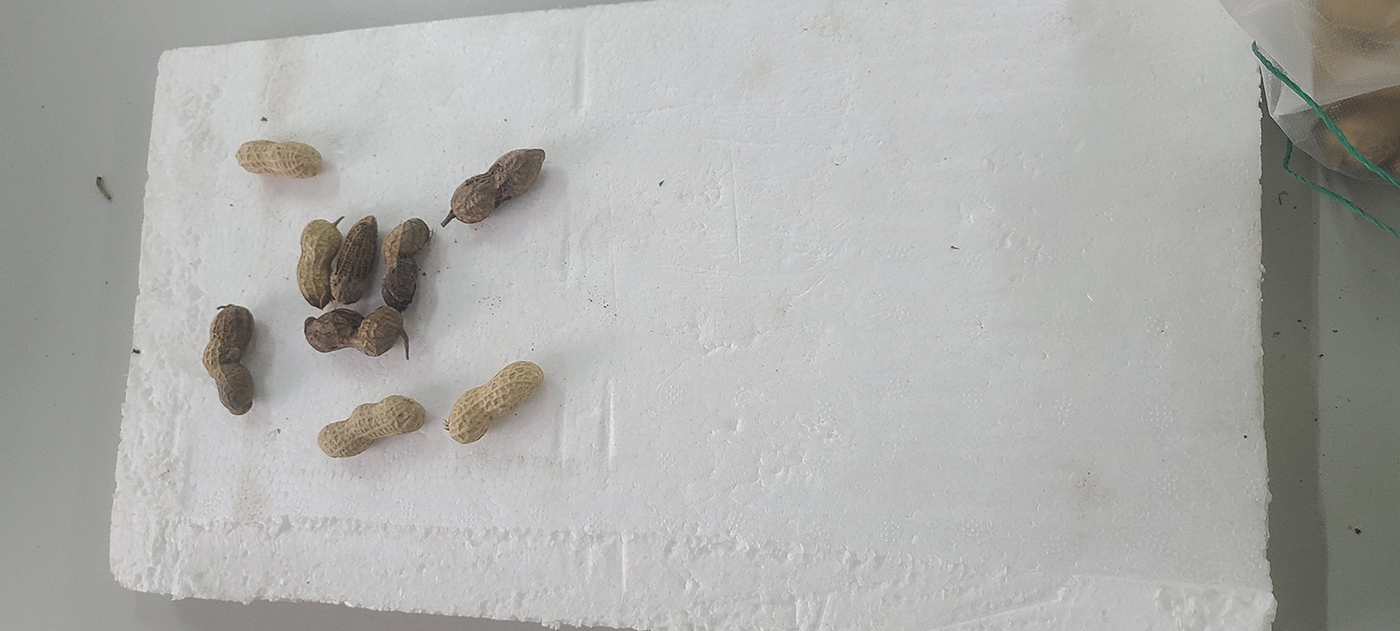h: (449, 361, 543, 444), (316, 394, 425, 459), (236, 139, 322, 179)
l: (451, 149, 545, 225), (201, 305, 255, 414), (304, 306, 404, 356), (380, 218, 429, 313), (328, 214, 379, 304), (296, 218, 340, 308)
